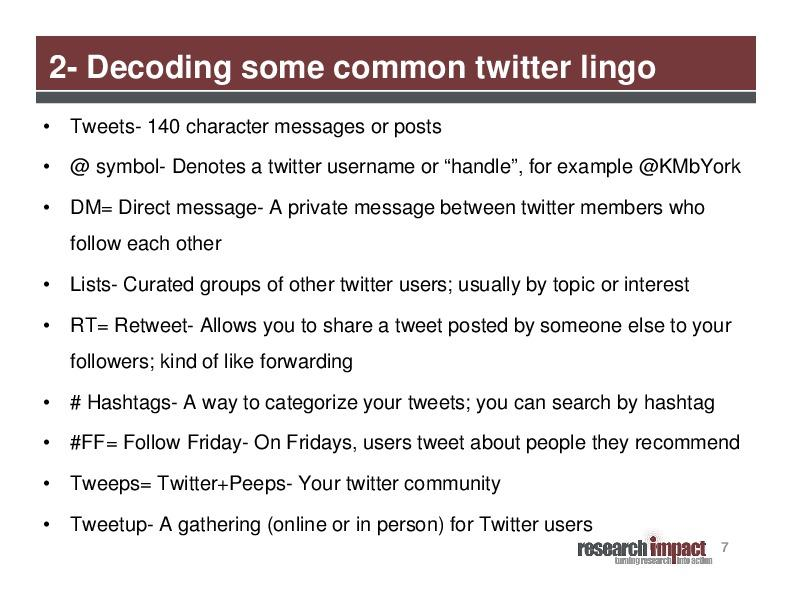paragraph: (28, 110, 773, 547)
title: (40, 42, 679, 106)
